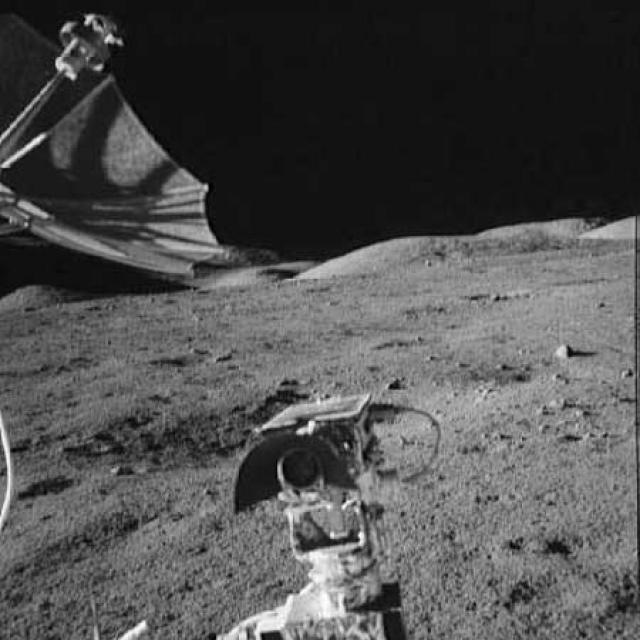artifact: (177, 394, 446, 639), (0, 5, 232, 285)
crater: (70, 402, 300, 463), (158, 346, 210, 368)
rock: (548, 338, 580, 362)
